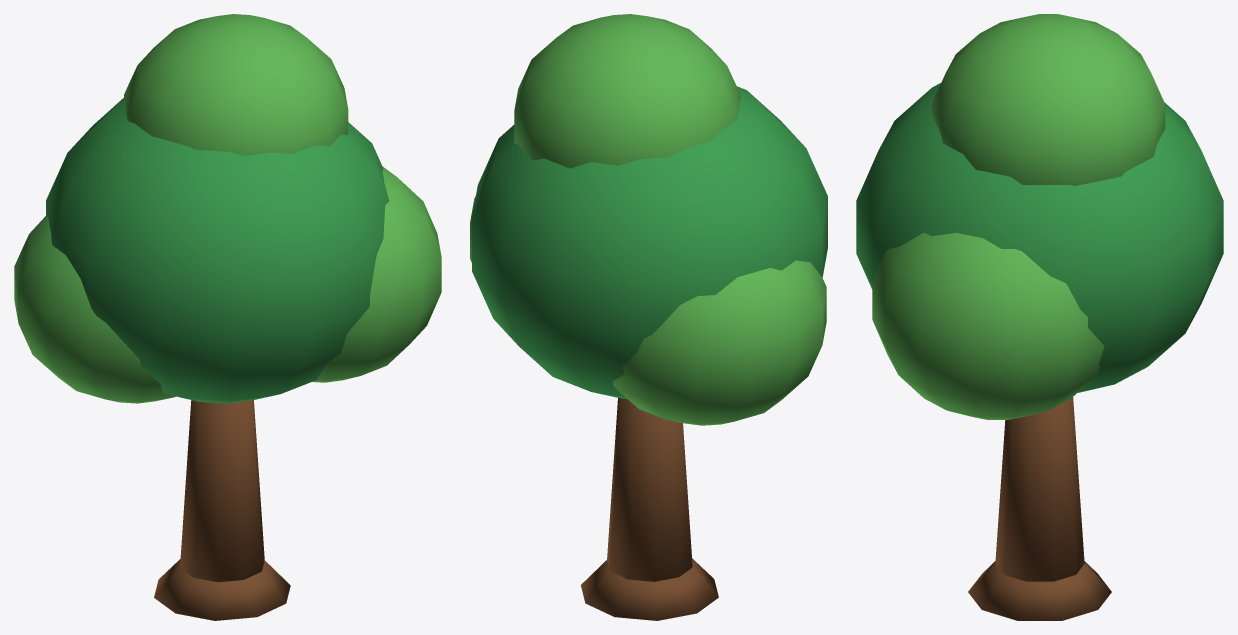
File: tree.glb
3 views of the same model, side by side, from view 1: azimuth 30°, elevation 25°; view 2: azimuth 150°, elevation 25°; view 3: azimuth 270°, elevation 25° (orthographic). The views are drawn at different scales.
Parts seen in each view (by area): view 1: tree; view 2: tree; view 3: tree.
Part boxes in pixels (x1=…): tree: x1=14, y1=14, x2=441, y2=620; tree: x1=470, y1=14, x2=827, y2=620; tree: x1=856, y1=14, x2=1223, y2=620.
Bounding box in the file's own units: 0.9961 × 1.5 × 0.8666.
